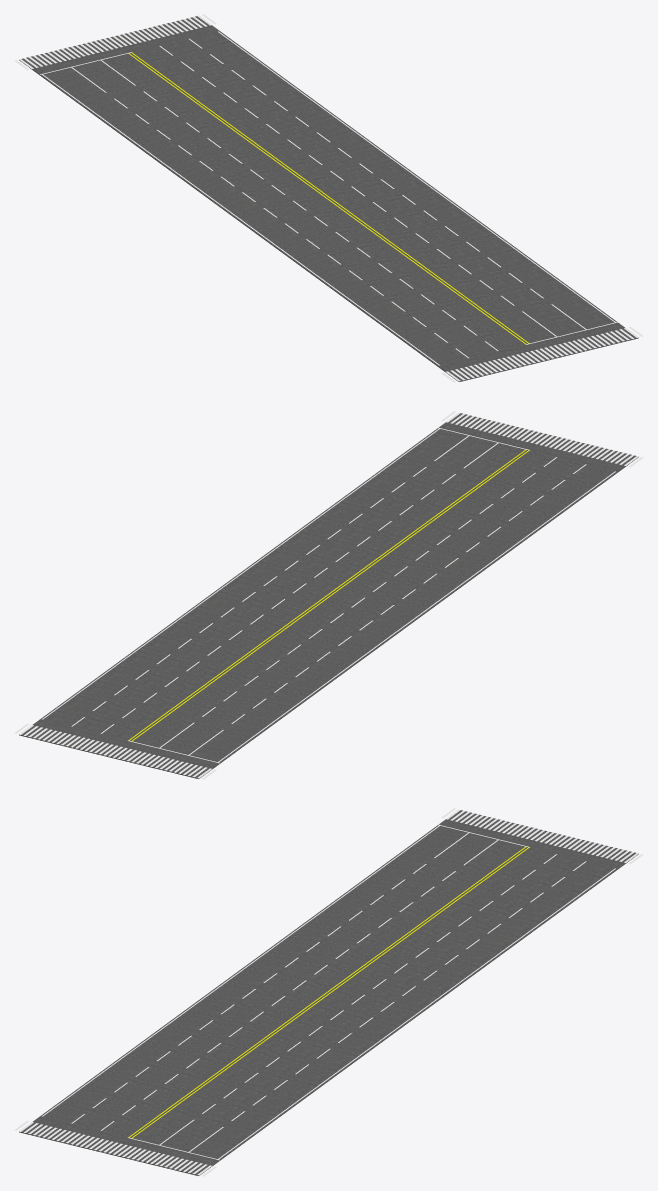
File: 2wayroad.gltf
3 renders of one model, top to bottom at view 1: azimuth 30°, elevation 25°; view 2: azimuth 150°, elevation 25°; view 3: azimuth 330°, elevation 25°, orthographic.
Visible parts, largest first — view 1: 道路21; view 2: 道路21; view 3: 道路21.
Part boxes in pixels (x1,y1,x2,y2): 道路21: (14,14,643,382); 道路21: (14,411,643,779); 道路21: (14,808,643,1176).
Bounding box in the file's own units: 32.4 × 0.1233 × 130.
Materials: 3 (1 with a texture image).
